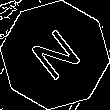N_SE: (24, 23, 86, 87)
